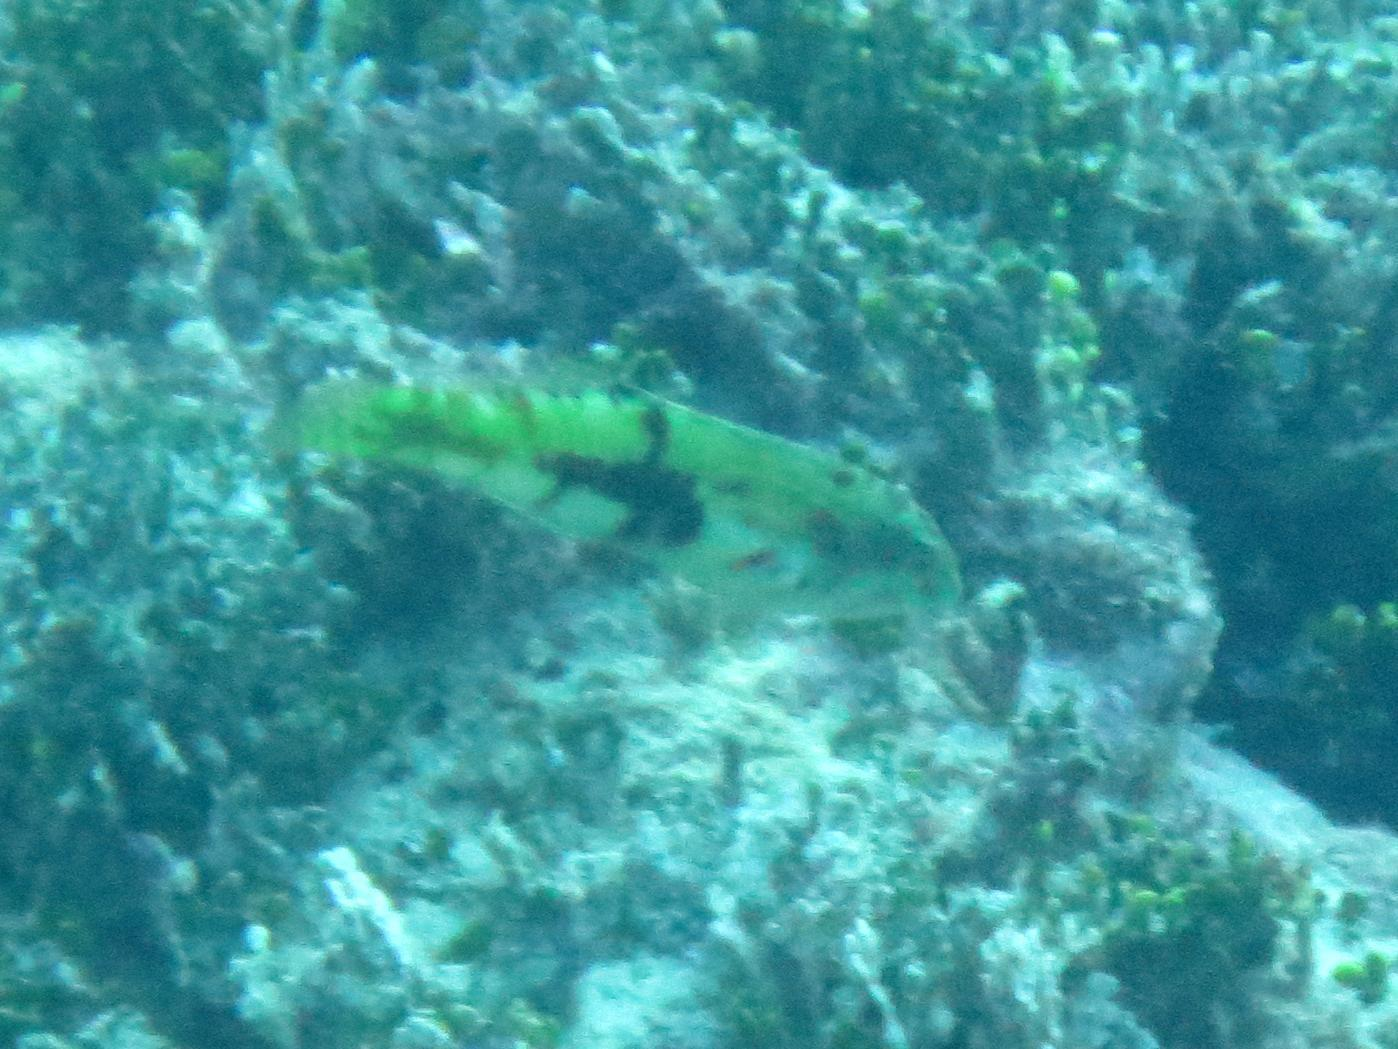Fish: (280, 353, 963, 647)
